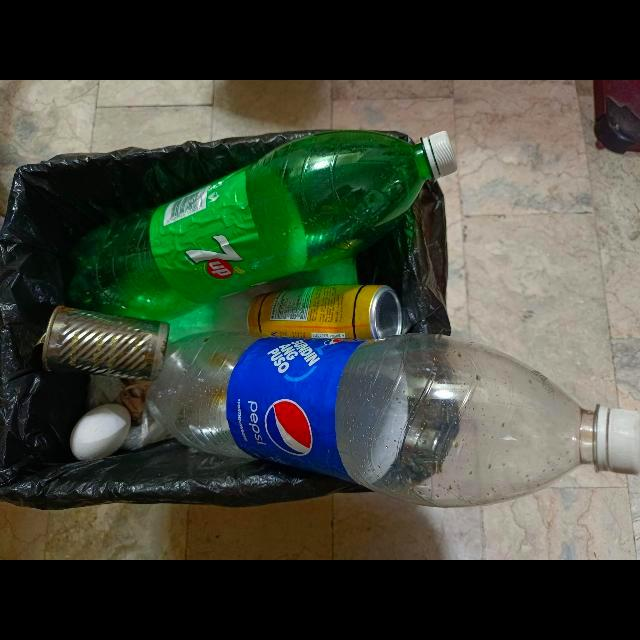aluminum: (40, 306, 170, 383), (247, 285, 402, 340)
plastic_bottle: (152, 333, 640, 509), (66, 130, 458, 322)
